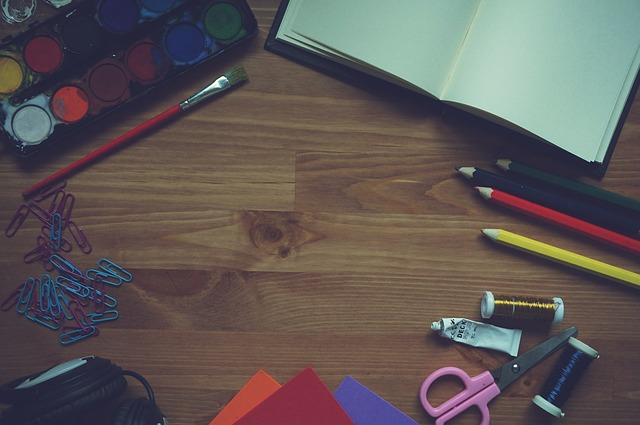headphones: (1, 354, 168, 425)
